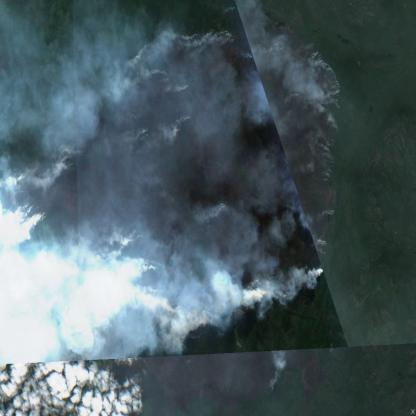fire: (0, 0, 346, 337)
